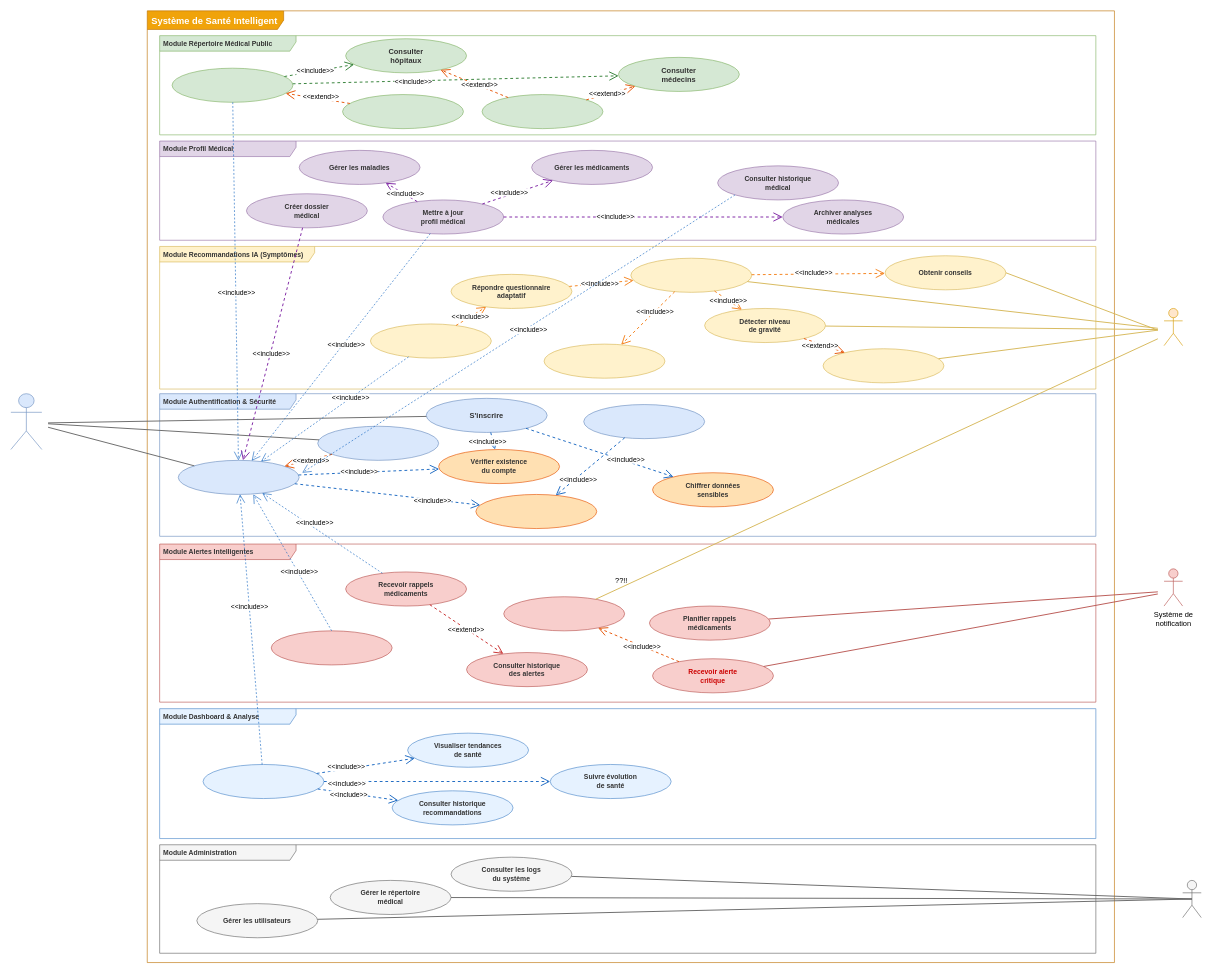
Some shapes in this 1226 by 973 pixel diagram are drawn without their labels. The centre of each missing label's shape, as x and y in pixels:
Administrateur: the point at 1191,899
Agent IA: the point at 1173,327
Analyser symptômes: the point at 691,275
Configurer préférences de notification: the point at 331,647
Consulter statistiques de santé: the point at 263,781
Filtrer par spécialité: the point at 402,111
Gérer session utilisateur: the point at 536,511
Obtenir orientation médicale: the point at 883,365
Obtenir orientation établissement: the point at 542,111
Patient: the point at 26,421
Rechercher par localisation: the point at 232,85
Réinitialiser mot de passe: the point at 378,443
Saisir les symptômes: the point at 430,340
Sauvegarder historique des analyses: the point at 604,360
Se connecter: the point at 238,477
Se déconnecter: the point at 644,421
Surveiller maladies chroniques: the point at 564,613
